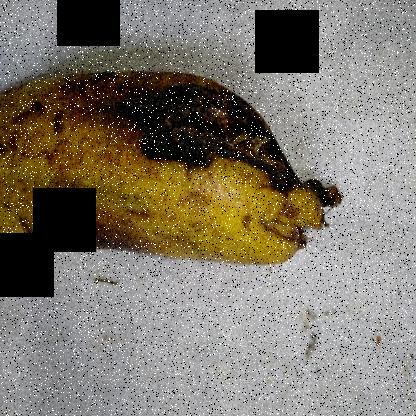ripe: (0, 130, 265, 289)
rotten: (84, 42, 306, 184), (22, 207, 164, 274)
